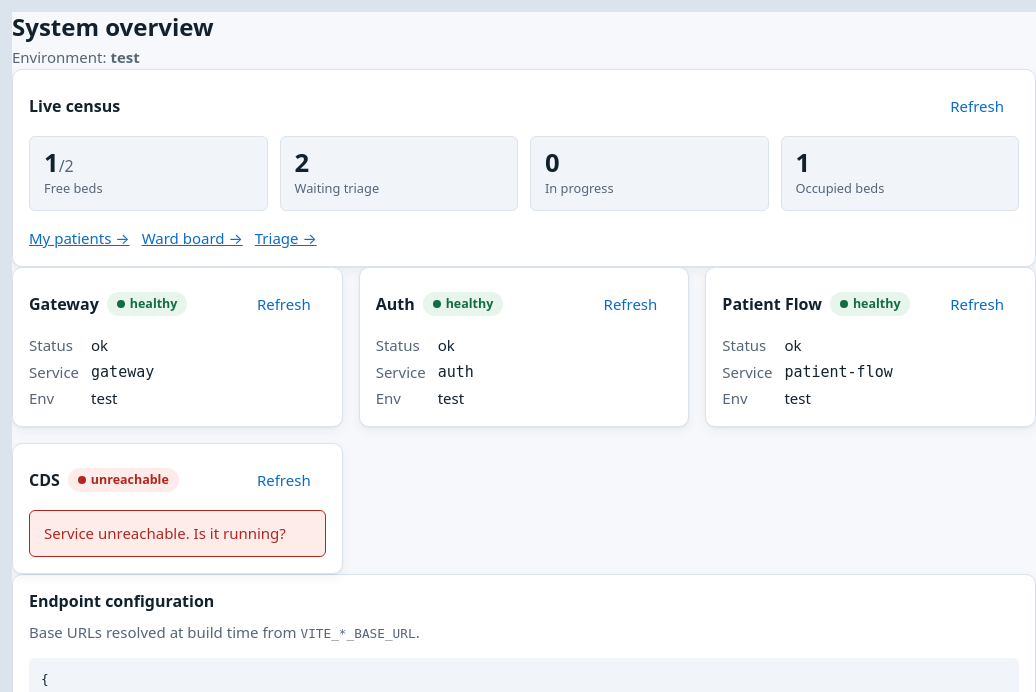
DashboardPage › recovers when a failing service comes back after refresh
expect the text "unreachable" is shown: met, box 68,468 -> 179,492
Click the 5th button "Refresh": (284, 480) 242,460 -> 326,500
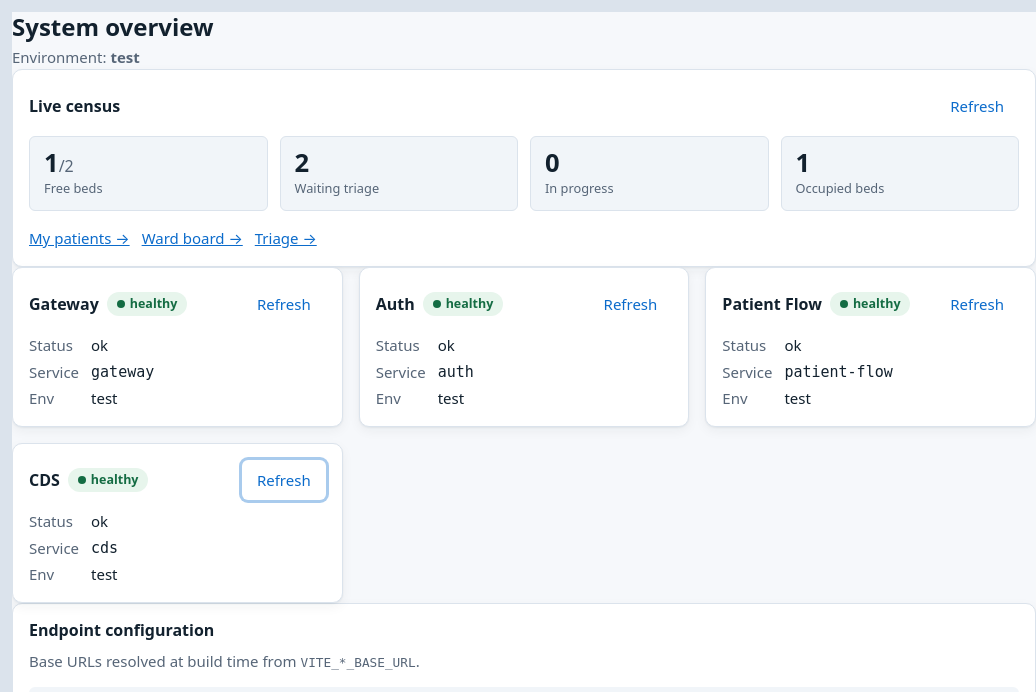
expect the text "unreachable" is gone: met
